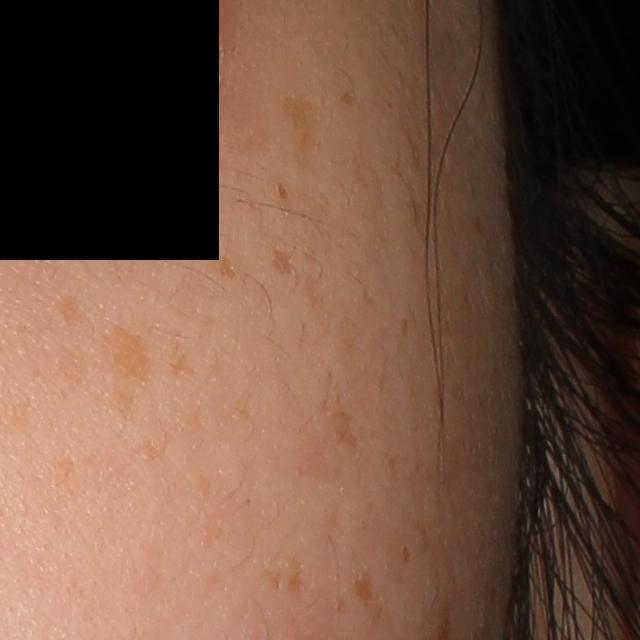melasma: (278, 93, 325, 159), (108, 320, 150, 391), (258, 557, 312, 599), (330, 406, 368, 450), (350, 564, 378, 608), (50, 295, 83, 328), (269, 245, 296, 281), (168, 350, 192, 382), (216, 253, 240, 281), (338, 87, 357, 107), (276, 181, 290, 202)
